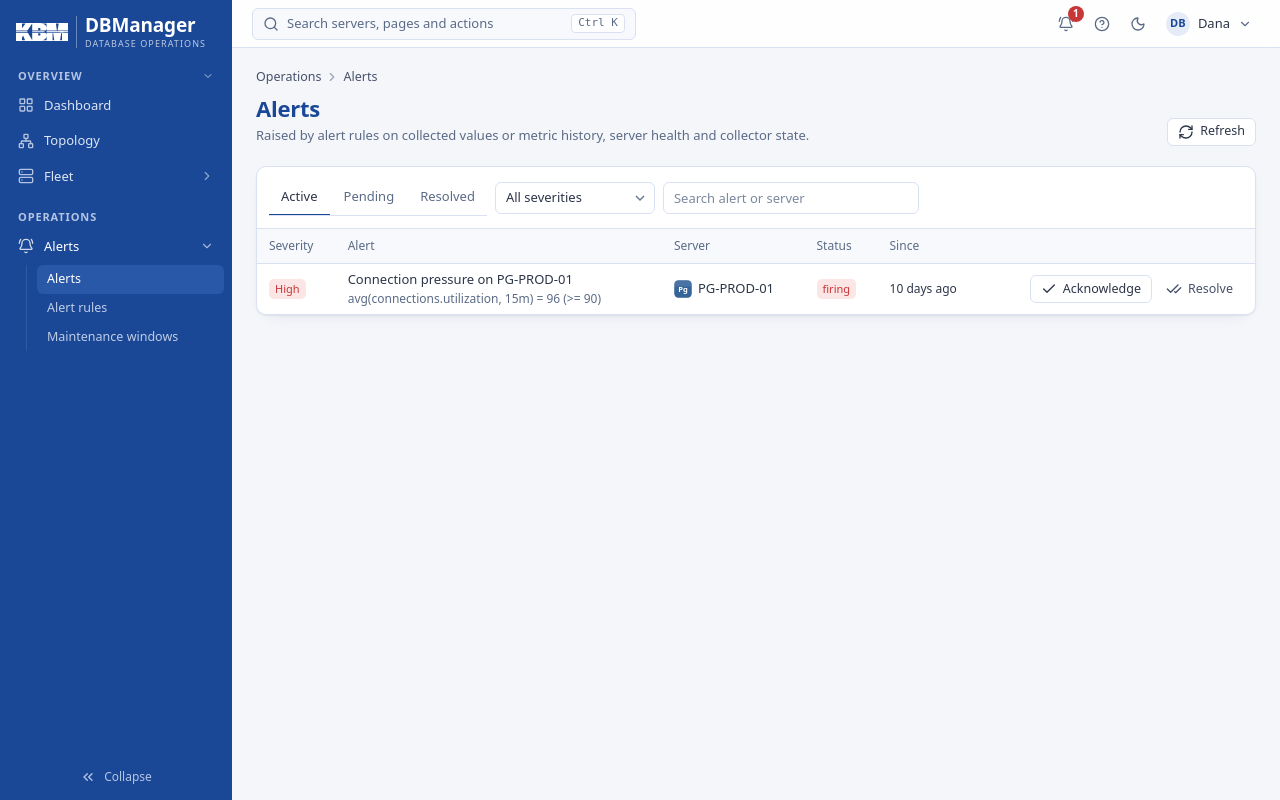
Test: alerting UI › shows the alert detail with comments and notifications and adds a comment
Click the button "Connection pressure on PG-PROD-01".
click(460, 280)  # box [348,270,573,290]
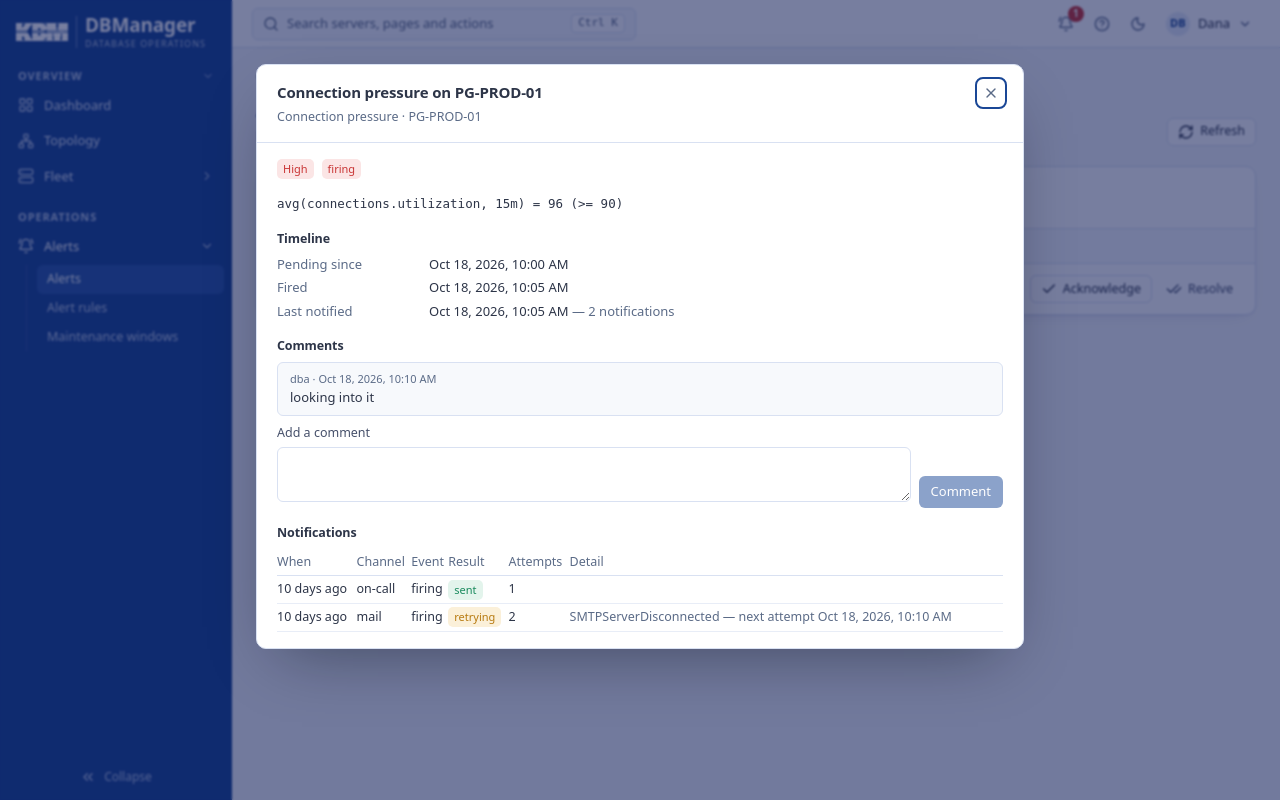
Check: the text "looking into it" is shown, box [290,388,374,406]
Check: the text "— 2 notifications" is shown, box [568,302,675,320]
Check: the text "retrying" is shown, box [448,607,501,627]
Type "failover at 11:00" into the text box labelled "Add a comment".
click(594, 475); type("failover at 11:00")  # box [277,447,910,502]
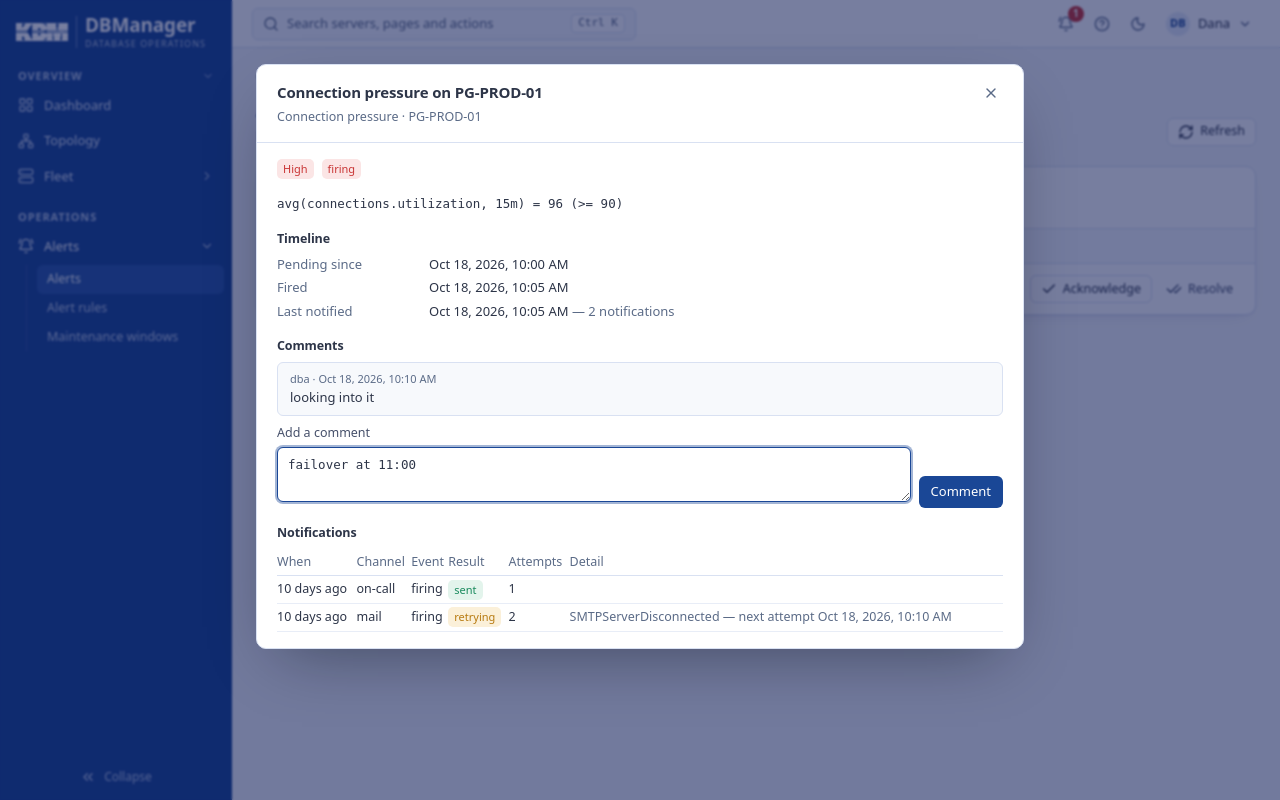
Click the button "Comment".
click(961, 492)  # box [918,476,1003,508]
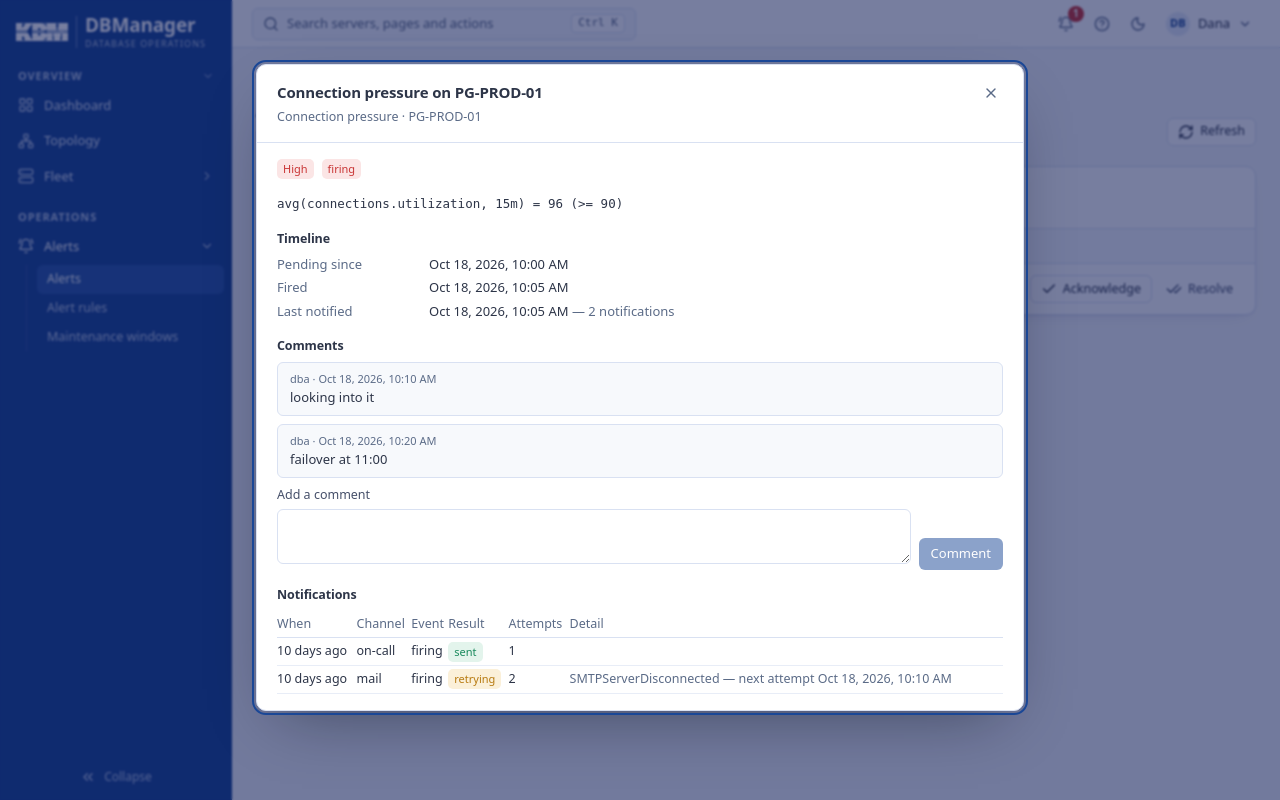
Check: the text "failover at 11:00" is shown, box [290,450,387,468]
